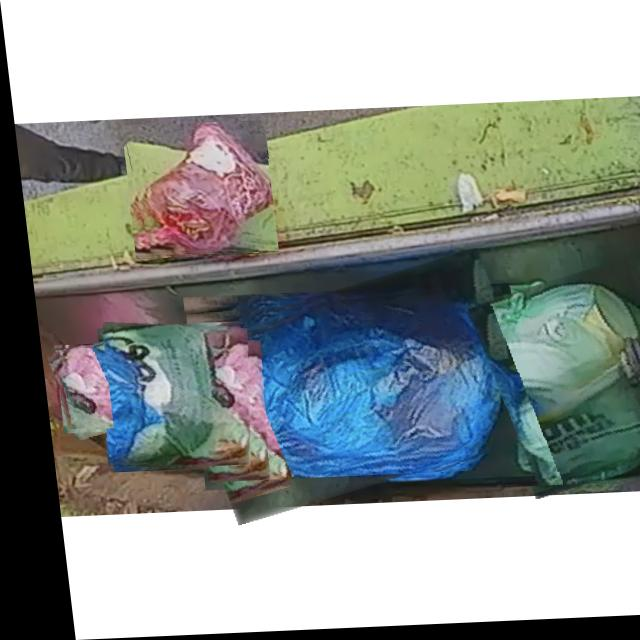general_trashbag: (469, 289, 640, 488), (95, 326, 241, 469)
other_trashbag: (187, 303, 499, 480), (135, 124, 268, 256), (46, 348, 140, 430)
